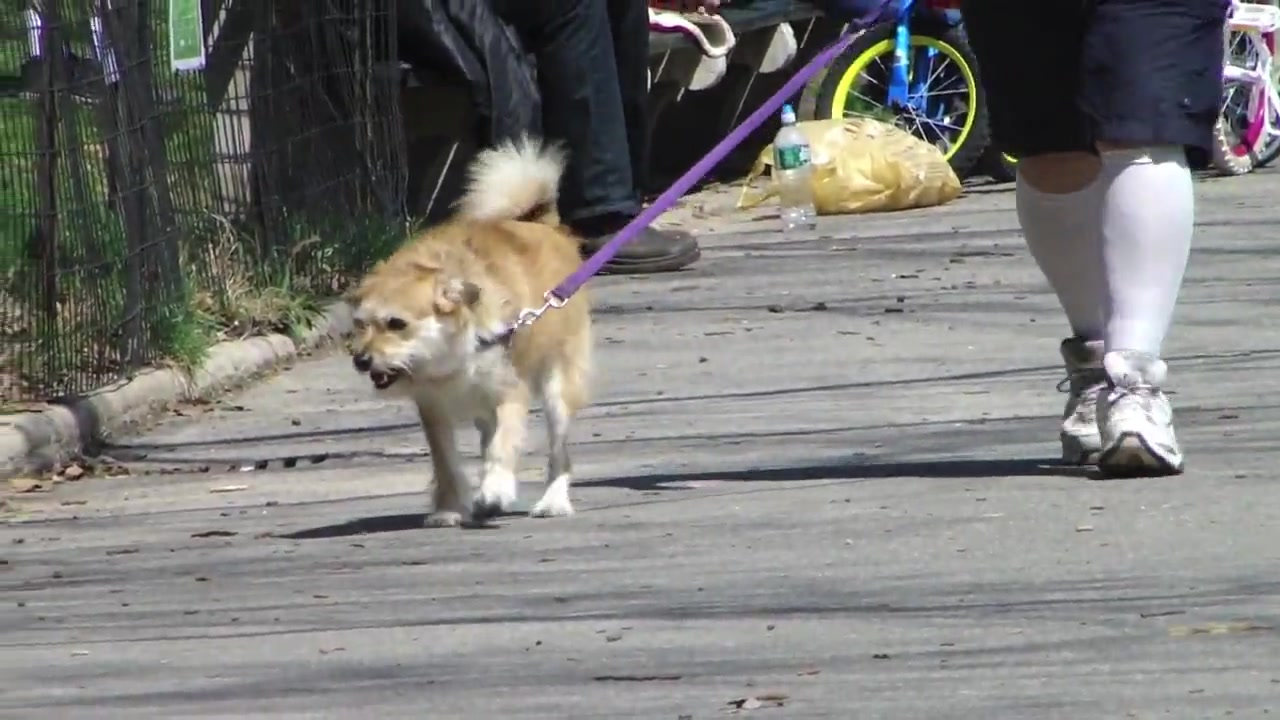dog: (341, 144, 595, 538)
